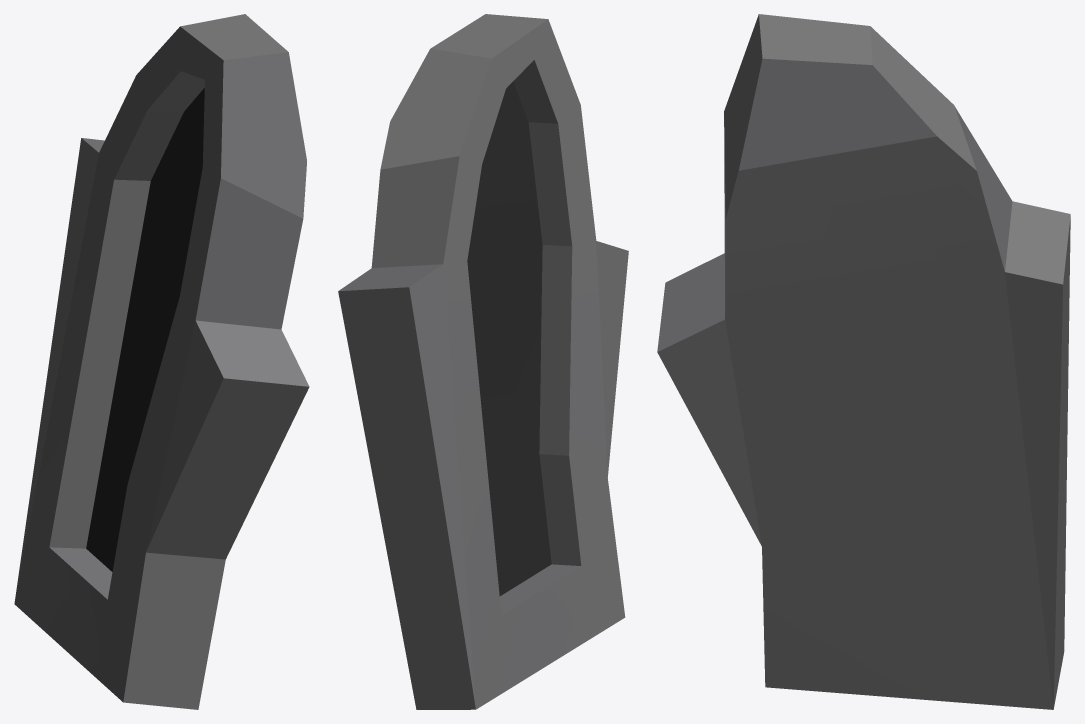
The model's file is ea_grave_stone_mini_01b_pre__6__lev1.glb.
The picture shows the model from 3 angles, left to right: view 1: azimuth 30°, elevation 25°; view 2: azimuth 150°, elevation 25°; view 3: azimuth 270°, elevation 25°; orthographic projection. The views are drawn at different scales.
Parts seen in each view (by area): view 1: ea_grave_stone_mini_01b_pre__6__lev1; view 2: ea_grave_stone_mini_01b_pre__6__lev1; view 3: ea_grave_stone_mini_01b_pre__6__lev1.
Boxes of the visible parts, x1,y1,x2,y2 form: ea_grave_stone_mini_01b_pre__6__lev1: (14, 14, 309, 709); ea_grave_stone_mini_01b_pre__6__lev1: (338, 14, 628, 709); ea_grave_stone_mini_01b_pre__6__lev1: (657, 14, 1070, 709).
Bounding box in the file's own units: 0.3114 × 1.08 × 0.5814.
1 material, 1 textured.
